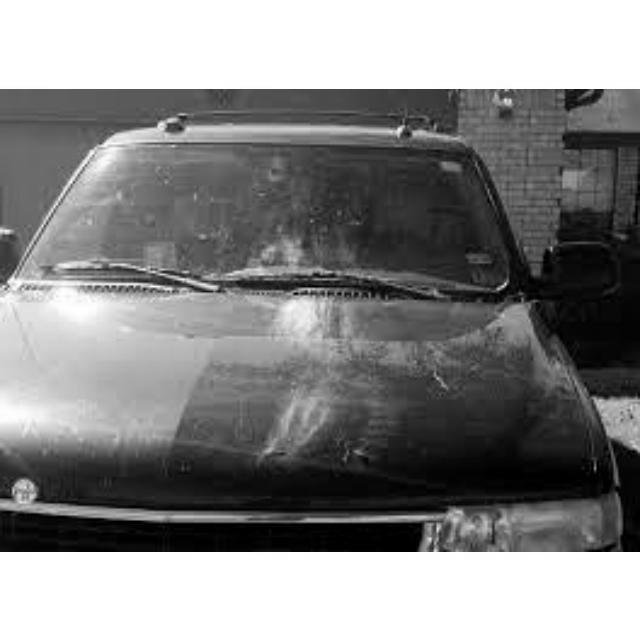bonnet-dent: (1, 287, 602, 529)
